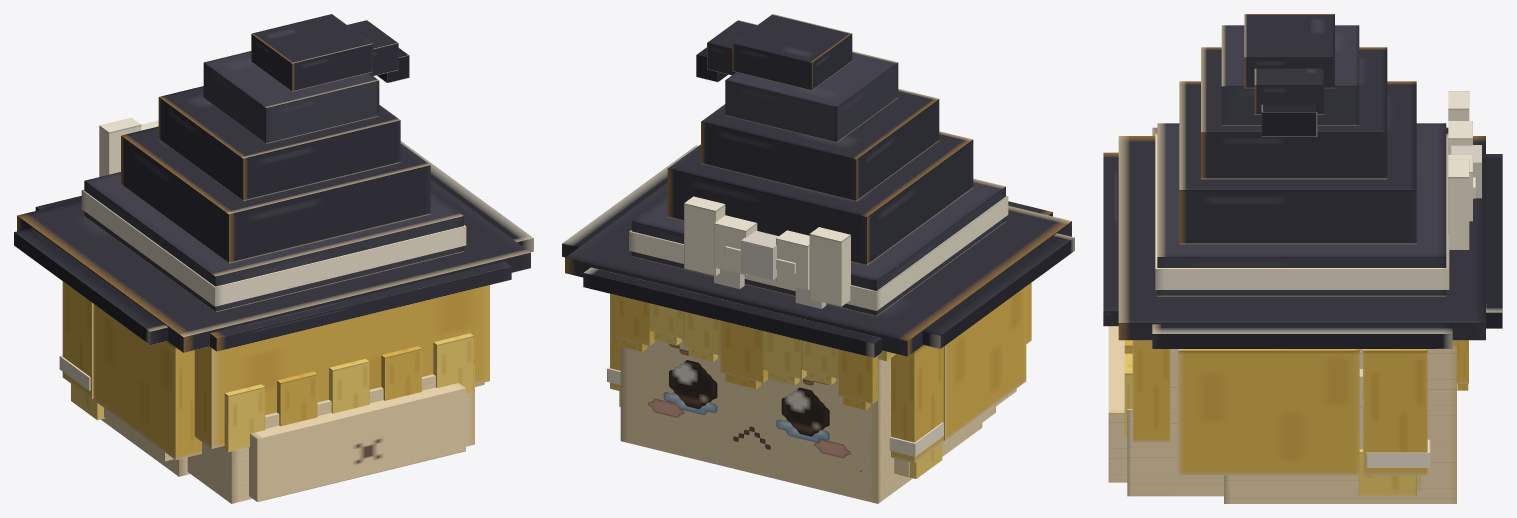
The model's file is compression_marisa_1.obj.
3 renders of one model, left to right at view 1: azimuth 30°, elevation 25°; view 2: azimuth 150°, elevation 25°; view 3: azimuth 270°, elevation 25°, orthographic. The views are drawn at different scales.
Visible parts, largest first — view 1: compression_marisa_1; view 2: compression_marisa_1; view 3: compression_marisa_1.
Boxes of the visible parts, x1,y1,x2,y2 form: compression_marisa_1: [14, 14, 533, 503]; compression_marisa_1: [562, 14, 1074, 503]; compression_marisa_1: [1103, 14, 1502, 503].
Bounding box in the file's own units: 19 × 17.82 × 15.53.
1 material, 1 textured.
